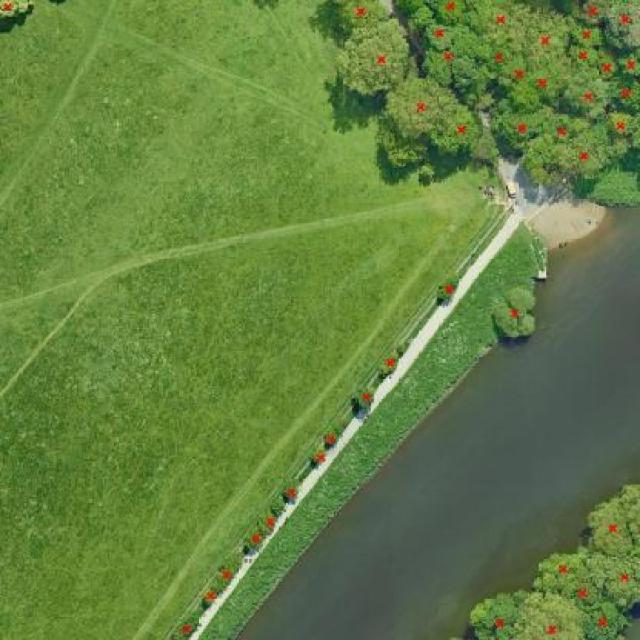tree: (520, 126, 640, 195), (329, 14, 415, 100), (569, 137, 640, 218), (371, 69, 452, 136), (480, 279, 548, 350), (507, 582, 588, 640), (484, 100, 565, 158), (415, 95, 486, 161), (517, 3, 574, 79), (457, 583, 526, 640), (466, 0, 537, 54), (414, 40, 485, 94), (579, 493, 635, 561), (503, 65, 582, 109), (311, 0, 398, 37), (553, 71, 621, 118), (524, 547, 602, 585), (600, 543, 640, 614), (568, 597, 632, 640), (525, 111, 596, 147), (595, 95, 640, 143), (602, 0, 640, 56), (469, 39, 514, 84), (598, 66, 640, 111), (418, 17, 464, 58), (555, 576, 603, 612), (495, 48, 532, 94), (424, 272, 468, 308), (557, 17, 608, 48), (344, 383, 384, 422), (559, 38, 606, 70), (584, 42, 622, 81), (426, 0, 474, 26), (195, 577, 228, 614), (0, 0, 43, 28), (239, 522, 270, 560), (212, 553, 243, 590), (565, 0, 614, 23), (611, 46, 640, 79), (172, 612, 206, 640), (276, 480, 309, 508), (407, 4, 438, 33), (301, 451, 334, 474), (372, 360, 397, 389), (259, 508, 287, 532), (321, 425, 344, 449)
